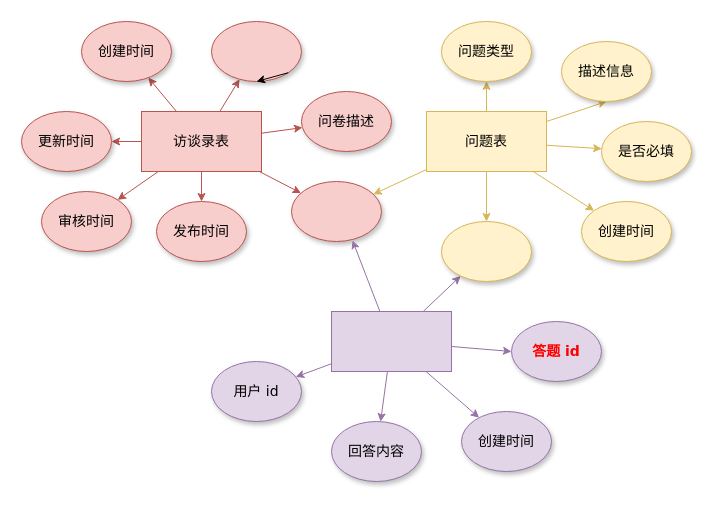
Image size: 715x506. Some labels were removed from this diagram. The shapes that lost their labels are listed below. From the top down, each one's centre as x and y in pixels, then its label:
the point at 257,52: 问卷状态
the point at 337,212: 问卷 id
the point at 487,252: 问题 id
the point at 391,341: 答卷表
